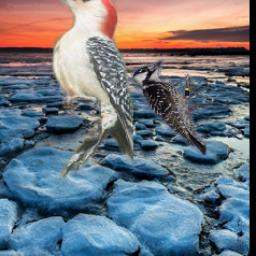Woodpecker: (37, 0, 134, 177), (131, 60, 207, 156)
